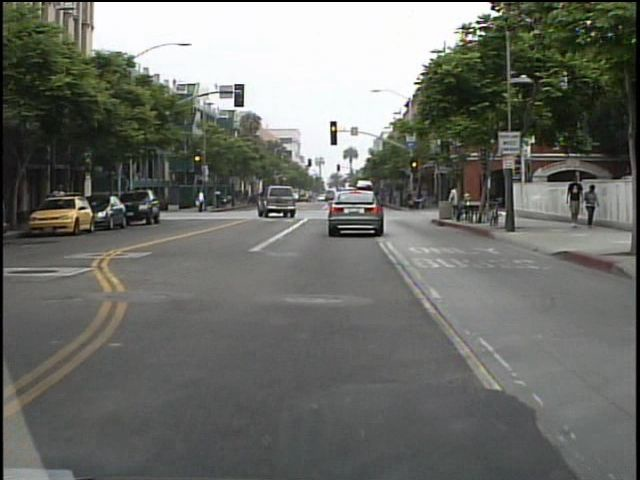person: (562, 174, 584, 229), (581, 181, 603, 231), (444, 182, 465, 224), (196, 187, 209, 214)
